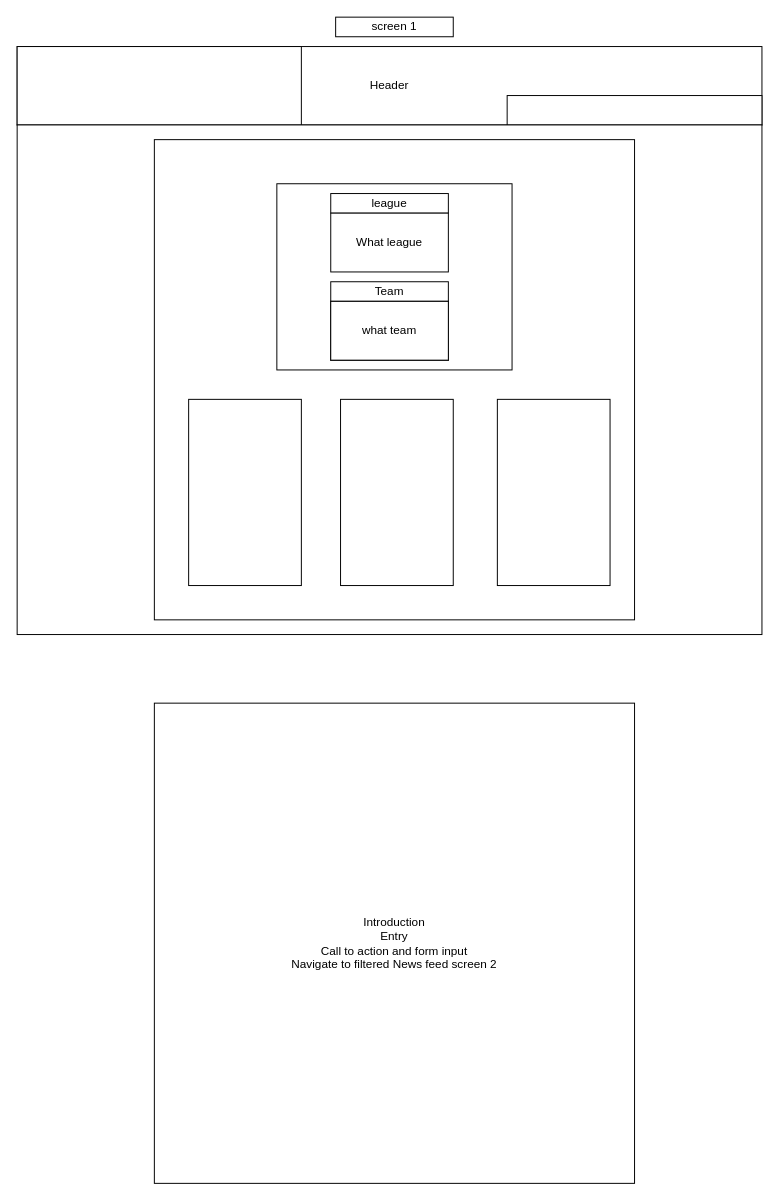
This 779x1201 diagram has some shape labels left out. Here are the shapes that lost their labels. From the top down, the centre of each, then its label:
the point at 158,85: Action picture
the point at 634,110: UI navigables
